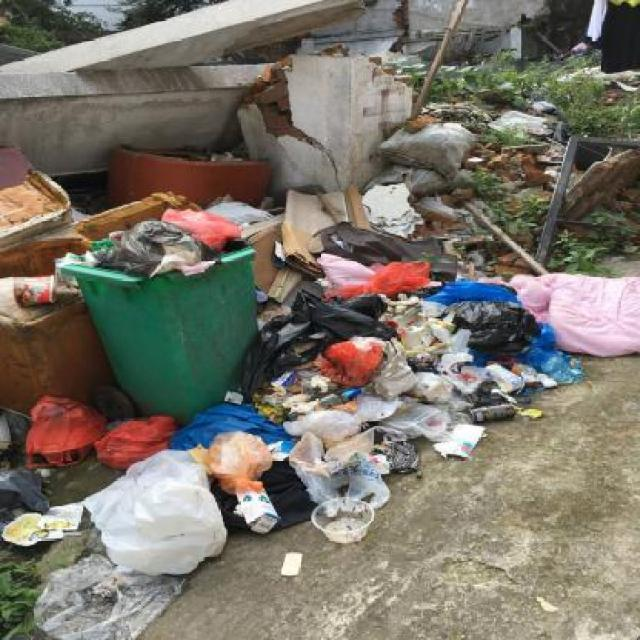fall: (408, 260, 640, 378)
